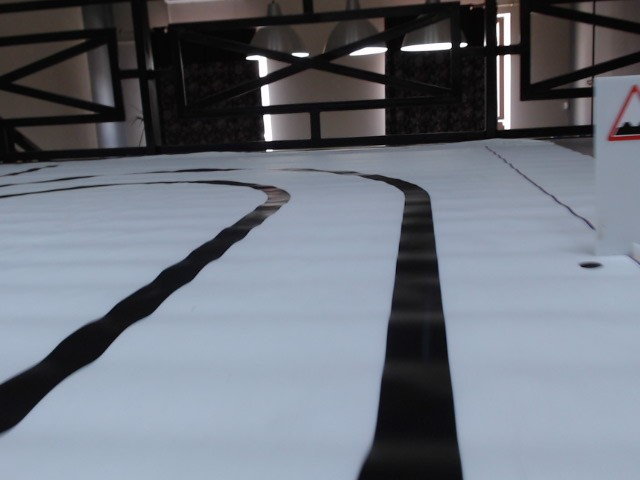Nerov: (604, 83, 640, 144)
